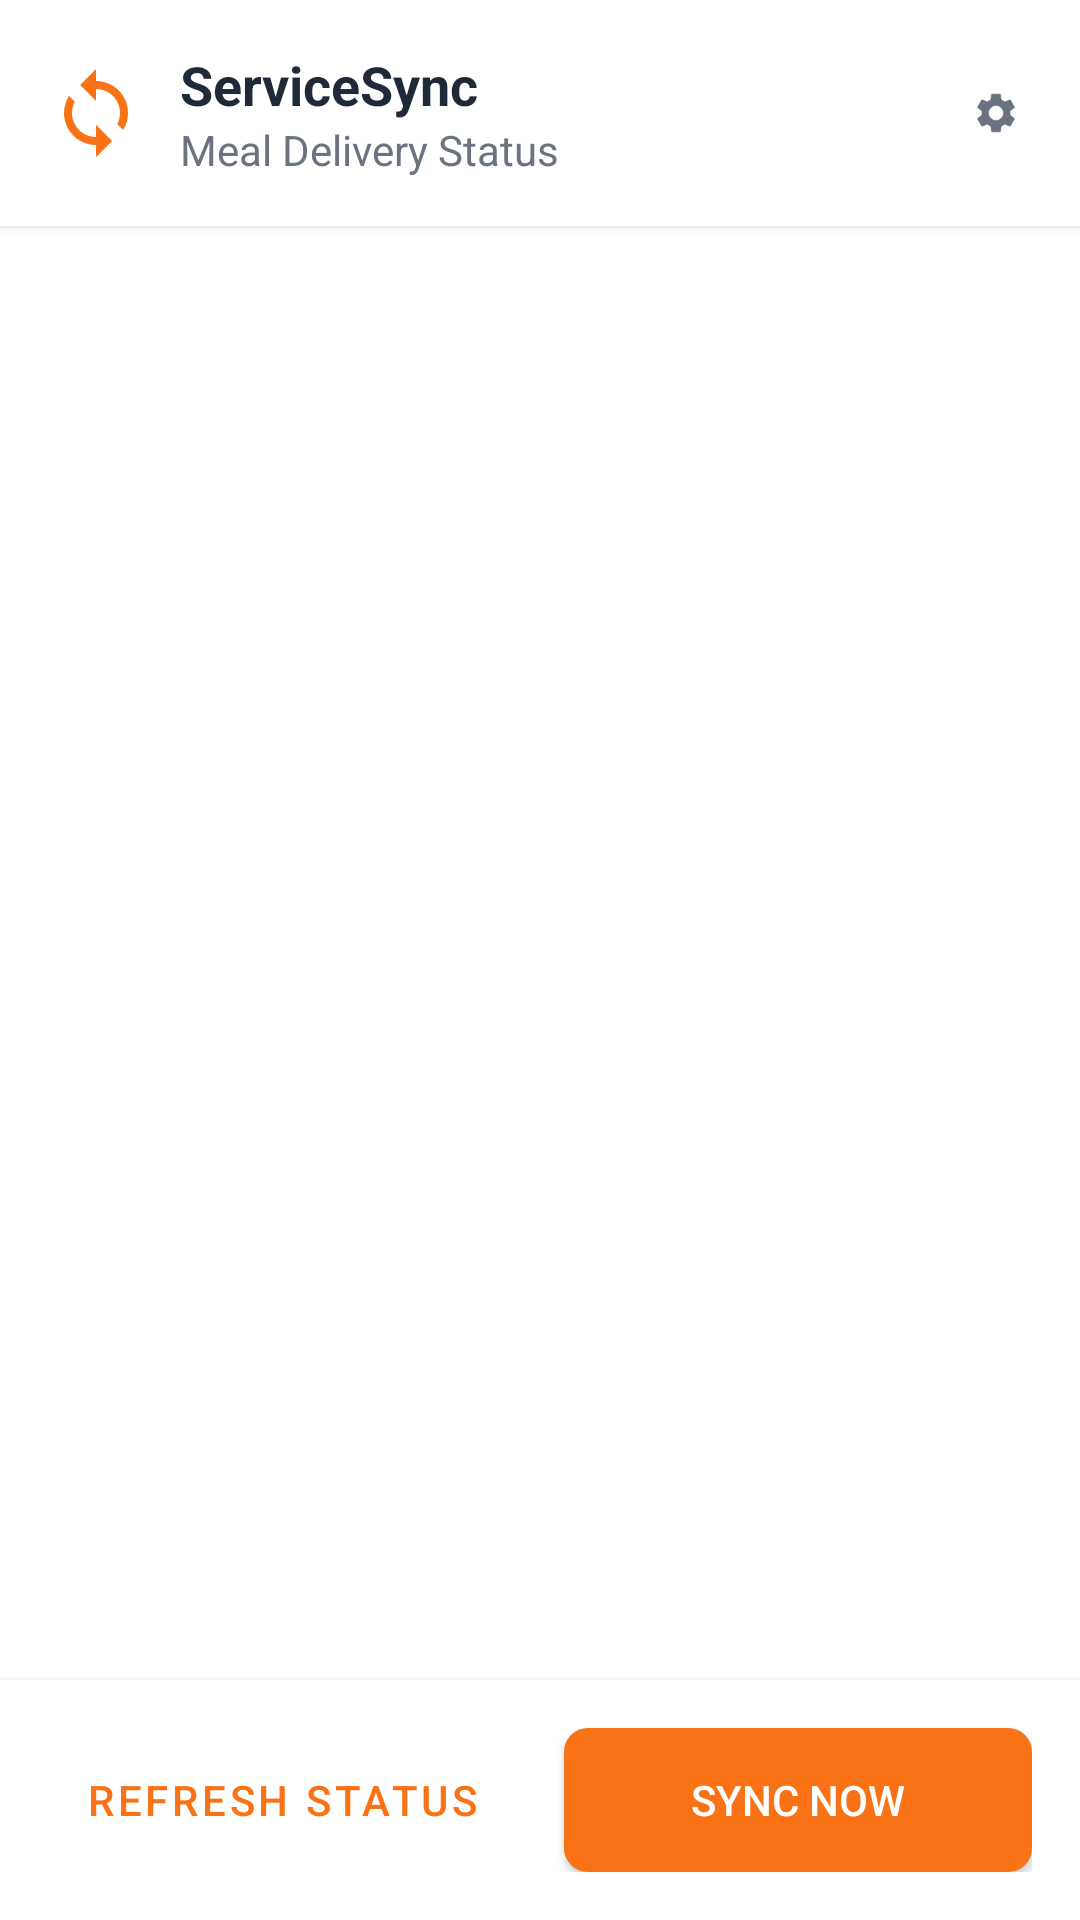

Where to tap for icons on this 1080w x 1920h app screen, as [x,y]:
Settings: [996,113]
